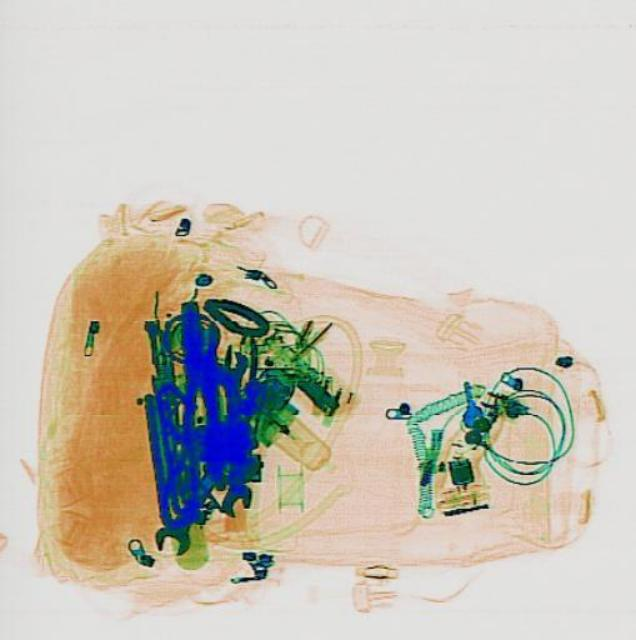Pliers: (166, 298, 225, 490)
Wrench: (145, 455, 230, 561), (205, 349, 258, 515)
